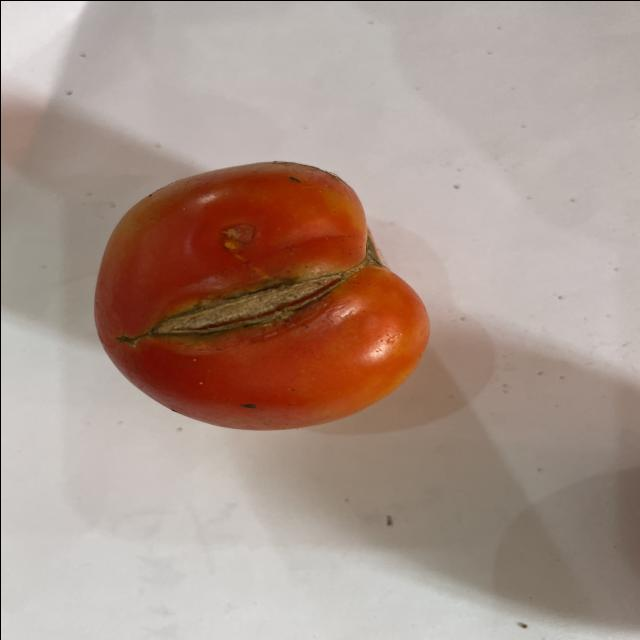tomato_cracking: (121, 273, 359, 343)
